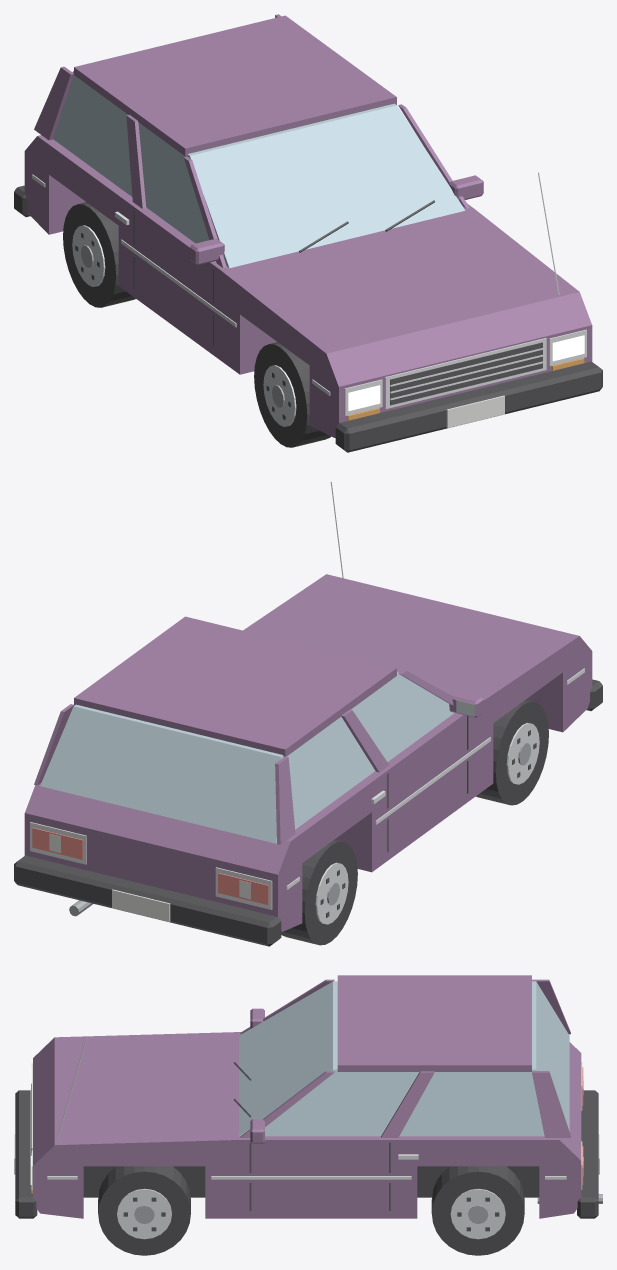
Rendered from car_hatch_p.glb.
3 views of the same model, one above another, from view 1: azimuth 30°, elevation 25°; view 2: azimuth 150°, elevation 25°; view 3: azimuth 270°, elevation 25° (orthographic). The views are drawn at different scales.
Visible parts, largest first — view 1: car_hatch_p_car_p, car_hatch_p_glass, car_hatch_p_rubber, car_hatch_p_chrome, car_hatch_p_dark, car_hatch_p_lamp_glass, car_hatch_p_paint_w; view 2: car_hatch_p_car_p, car_hatch_p_glass, car_hatch_p_rubber, car_hatch_p_chrome, car_hatch_p_neon_r, car_hatch_p_paint_w, car_hatch_p_steel; view 3: car_hatch_p_car_p, car_hatch_p_glass, car_hatch_p_rubber, car_hatch_p_chrome, car_hatch_p_dark, car_hatch_p_steel.
Boxes of the visible parts, x1=… form: car_hatch_p_car_p: x1=24, y1=14, x2=592, y2=437; car_hatch_p_glass: x1=53, y1=71, x2=465, y2=268; car_hatch_p_rubber: x1=14, y1=185, x2=602, y2=452; car_hatch_p_chrome: x1=32, y1=172, x2=586, y2=426; car_hatch_p_dark: x1=75, y1=200, x2=542, y2=420; car_hatch_p_lamp_glass: x1=348, y1=335, x2=584, y2=410; car_hatch_p_paint_w: x1=446, y1=395, x2=504, y2=427; car_hatch_p_car_p: x1=24, y1=574, x2=592, y2=931; car_hatch_p_glass: x1=40, y1=672, x2=454, y2=843; car_hatch_p_rubber: x1=14, y1=679, x2=602, y2=946; car_hatch_p_chrome: x1=30, y1=481, x2=584, y2=924; car_hatch_p_neon_r: x1=32, y1=828, x2=268, y2=904; car_hatch_p_paint_w: x1=49, y1=833, x2=250, y2=921; car_hatch_p_steel: x1=69, y1=742, x2=530, y2=916; car_hatch_p_car_p: x1=33, y1=975, x2=581, y2=1218; car_hatch_p_glass: x1=239, y1=981, x2=569, y2=1136; car_hatch_p_rubber: x1=15, y1=1090, x2=598, y2=1255; car_hatch_p_chrome: x1=30, y1=1038, x2=582, y2=1239; car_hatch_p_dark: x1=31, y1=1062, x2=499, y2=1231; car_hatch_p_steel: x1=134, y1=1194, x2=602, y2=1223.
Size of the model in its own units: 2 by 1.6 by 4.06.
